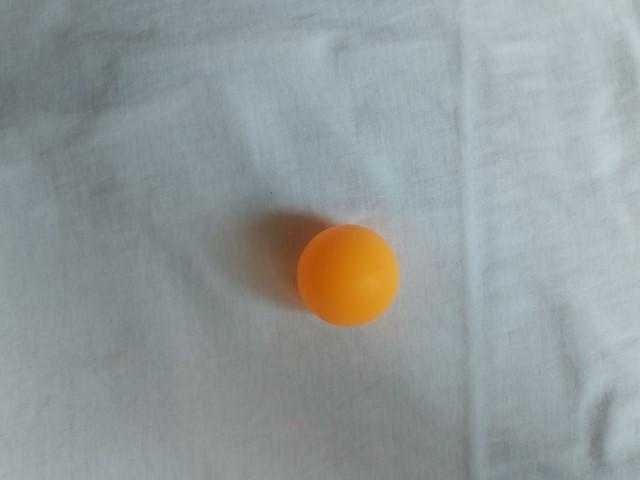oball: (229, 148, 354, 266)
